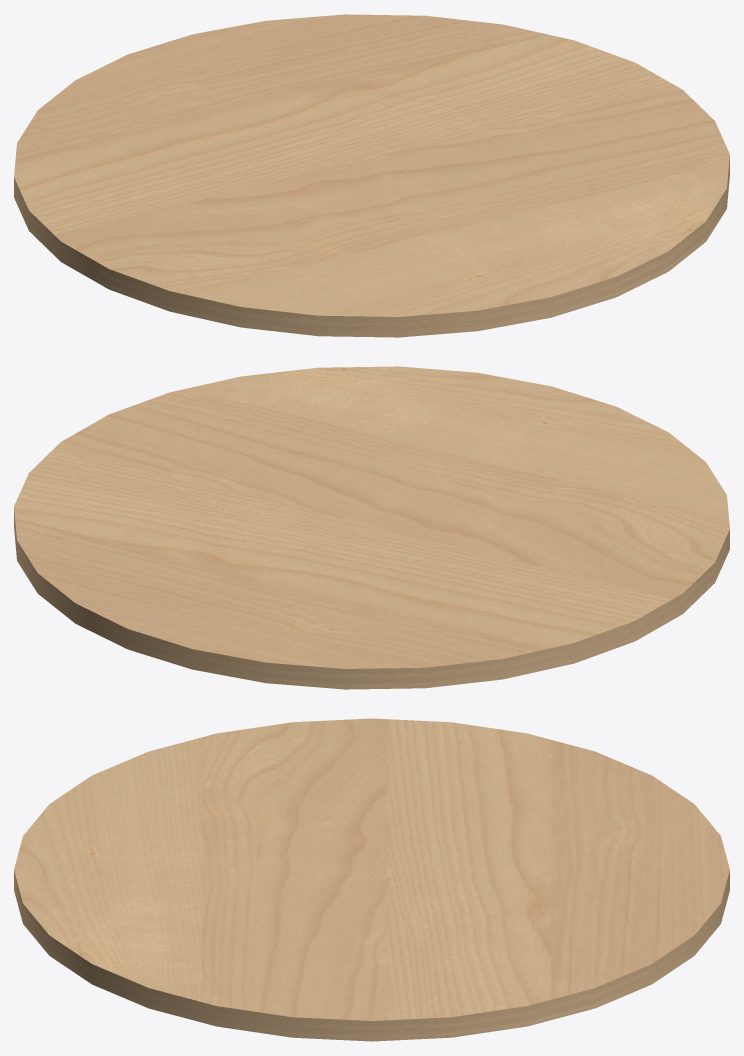
Rendered from wooden cylinder.FBX.
The picture shows the model from 3 angles, top to bottom: view 1: azimuth 30°, elevation 25°; view 2: azimuth 150°, elevation 25°; view 3: azimuth 270°, elevation 25°; orthographic projection.
Visible parts, largest first — view 1: wooden cylinder; view 2: wooden cylinder; view 3: wooden cylinder.
Part boxes in pixels (left/top/right/bottom): wooden cylinder: left=14, top=14, right=729, bottom=337; wooden cylinder: left=14, top=366, right=729, bottom=689; wooden cylinder: left=14, top=718, right=729, bottom=1041.
Bounding box in the file's own units: 67.03 × 2.11 × 67.03.
1 material, 1 textured.
